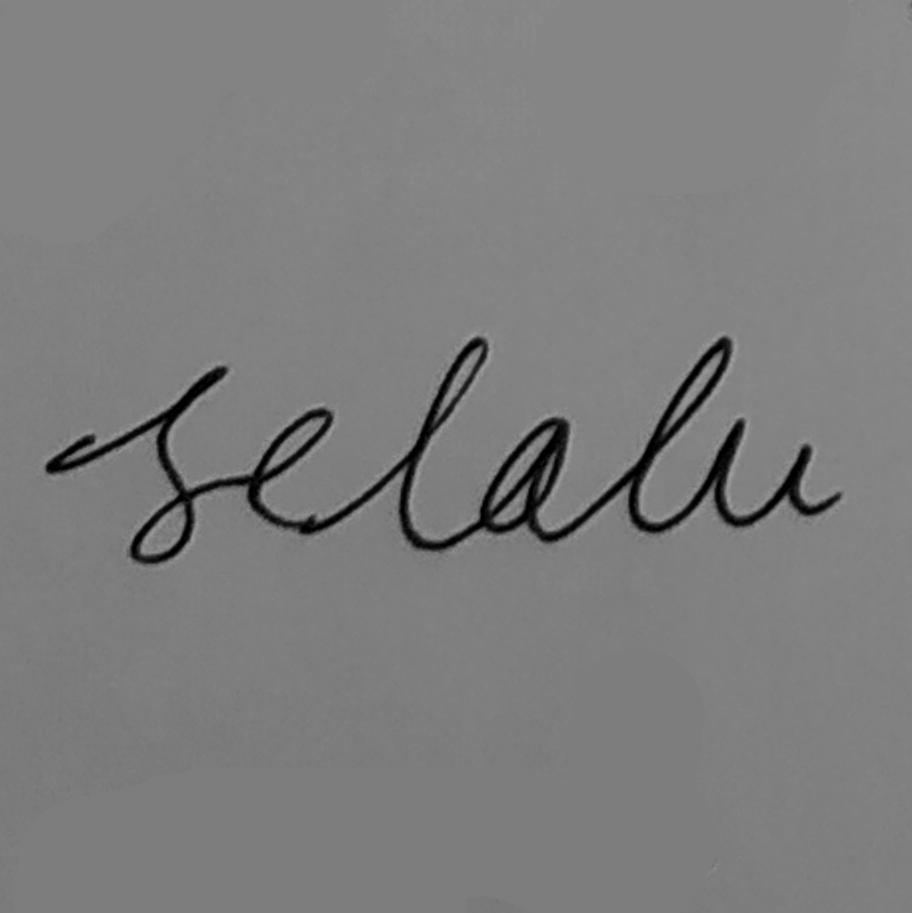a: (474, 413, 574, 546)
e: (242, 404, 344, 538)
l: (623, 331, 735, 541), (393, 333, 492, 556)
s: (123, 363, 230, 567)
u: (710, 414, 816, 531)
